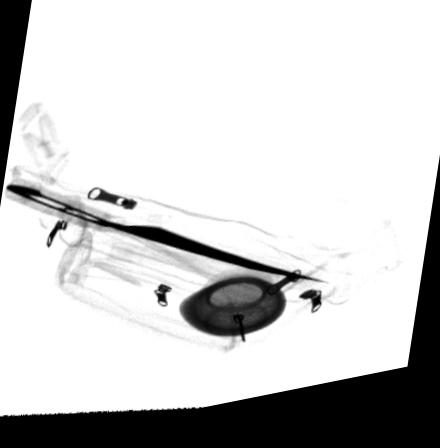Knife: (4, 183, 331, 297)
